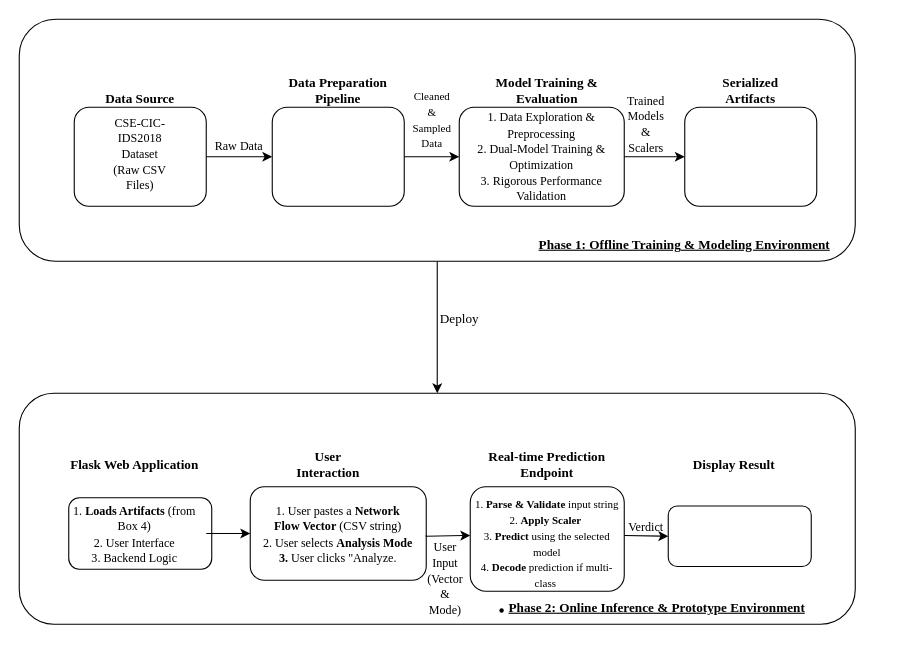
The diagram is 897 pixels wide and 649 high, and some of its shapes have lost their labels. Each missing label, with the box of its shape:
1. Chunking 2. Data Cleaning & Consolidation 3. Stratified Sampling (10% Sample): (271, 106, 404, 206)
All .joblib files: (684, 106, 817, 206)
Verdict: e.g., "Benign", "Attack", or "DoS-Hulk".: (667, 505, 811, 566)
